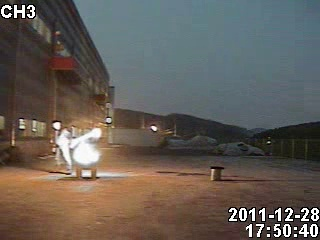fire: (70, 127, 102, 165)
